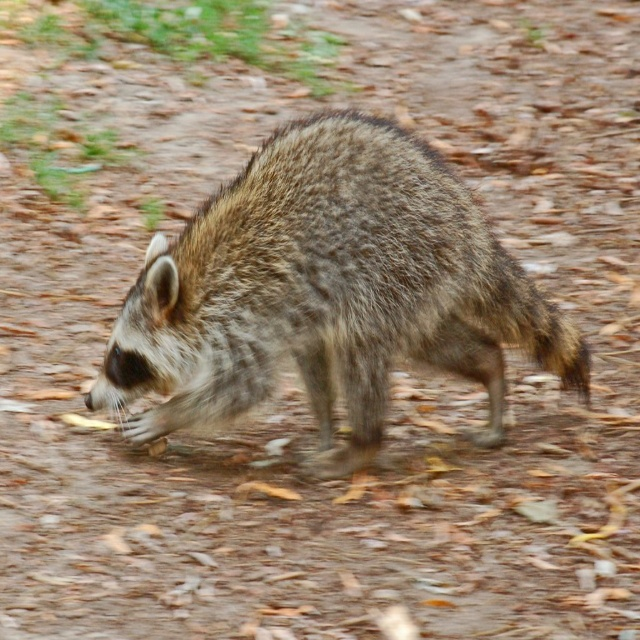Raccoon: (84, 107, 592, 480)
